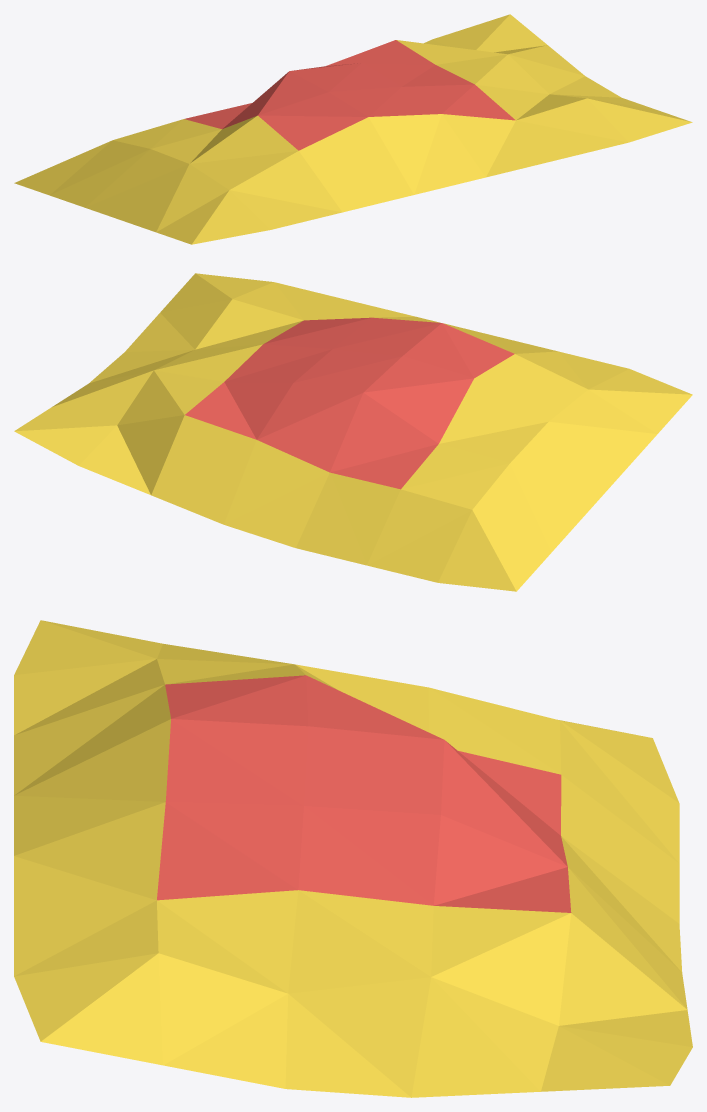
The model's file is Trash_Chips.fbx.
3 renders of one model, top to bottom at view 1: azimuth 30°, elevation 25°; view 2: azimuth 150°, elevation 25°; view 3: azimuth 270°, elevation 25°, orthographic. The views are drawn at different scales.
Parts seen in each view (by area): view 1: Trash_Chips; view 2: Trash_Chips; view 3: Trash_Chips.
Boxes of the visible parts, bbox=[...] form: Trash_Chips: bbox=[14, 14, 692, 244]; Trash_Chips: bbox=[14, 273, 692, 591]; Trash_Chips: bbox=[14, 620, 692, 1097].
Size of the model in its own units: 0.22 by 0.0515 by 0.1497.
